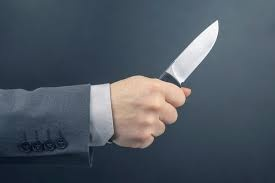knife: (148, 19, 219, 103)
